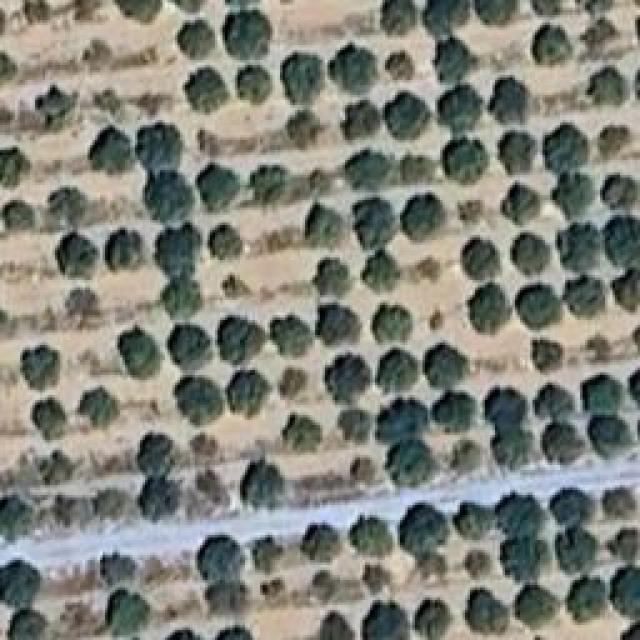Tree: (100, 585, 160, 640), (463, 285, 516, 345), (338, 140, 397, 193), (465, 585, 521, 640), (438, 80, 490, 139), (428, 390, 487, 441), (485, 70, 534, 130), (278, 42, 326, 101), (495, 423, 548, 475), (550, 523, 601, 577), (175, 378, 229, 428), (423, 340, 478, 389), (323, 350, 375, 401), (400, 193, 453, 243), (150, 225, 199, 279), (195, 150, 243, 205), (215, 313, 263, 368), (20, 347, 77, 393), (350, 198, 399, 251), (453, 242, 508, 289), (200, 580, 258, 624), (388, 438, 438, 489), (313, 300, 360, 354), (378, 400, 432, 447), (434, 33, 486, 81), (330, 40, 376, 94), (400, 508, 448, 559), (183, 65, 235, 112), (103, 228, 150, 280), (2, 558, 48, 611), (495, 490, 549, 535), (190, 535, 246, 578), (513, 578, 561, 627), (410, 590, 458, 639), (32, 78, 78, 129), (315, 253, 361, 304), (543, 120, 591, 168), (575, 10, 624, 57), (583, 62, 633, 108), (130, 434, 184, 476), (55, 233, 102, 281), (78, 380, 126, 427), (567, 573, 612, 623), (88, 128, 140, 171), (361, 598, 414, 640), (560, 270, 608, 316), (225, 10, 272, 56), (115, 328, 161, 375), (267, 310, 313, 357), (518, 282, 565, 328), (442, 137, 489, 183), (497, 123, 543, 170), (347, 515, 393, 562), (245, 462, 291, 508), (532, 22, 579, 67), (453, 500, 500, 545), (142, 170, 188, 215), (508, 537, 552, 584), (538, 383, 586, 426), (290, 110, 332, 159), (93, 548, 148, 585), (553, 173, 596, 220), (398, 143, 440, 191), (170, 15, 220, 55), (302, 520, 347, 564), (502, 185, 548, 228), (228, 373, 270, 420), (305, 200, 347, 247), (558, 220, 600, 267), (365, 303, 413, 344), (550, 485, 599, 525), (345, 100, 390, 143), (600, 210, 640, 258), (140, 478, 185, 520), (593, 412, 635, 457), (485, 388, 532, 428), (393, 93, 436, 136), (135, 123, 179, 165), (0, 490, 38, 538), (170, 323, 208, 370), (280, 415, 327, 452), (50, 188, 91, 230), (333, 403, 375, 444), (360, 255, 401, 297), (155, 278, 198, 318), (600, 168, 640, 211), (38, 448, 77, 492), (375, 346, 415, 388), (92, 483, 136, 521), (2, 607, 52, 640), (607, 562, 640, 612), (383, 0, 423, 41), (588, 328, 629, 368), (513, 233, 552, 275), (348, 451, 386, 494), (545, 423, 588, 461), (30, 400, 71, 439), (595, 120, 636, 159), (380, 42, 414, 89), (585, 375, 627, 412), (598, 480, 640, 516), (430, 0, 473, 35), (607, 270, 640, 315), (607, 522, 640, 567), (3, 193, 41, 232), (233, 63, 273, 100), (53, 495, 96, 529), (107, 0, 165, 25), (250, 163, 288, 201), (475, 0, 525, 28), (528, 340, 568, 375), (205, 223, 243, 258), (218, 270, 252, 308), (68, 0, 106, 34), (92, 86, 128, 120), (0, 148, 30, 188), (131, 81, 165, 116), (464, 545, 494, 581), (313, 610, 348, 640), (275, 367, 307, 399), (19, 0, 61, 24), (303, 168, 330, 203), (530, 3, 572, 22), (205, 625, 260, 639), (165, 623, 199, 640)
